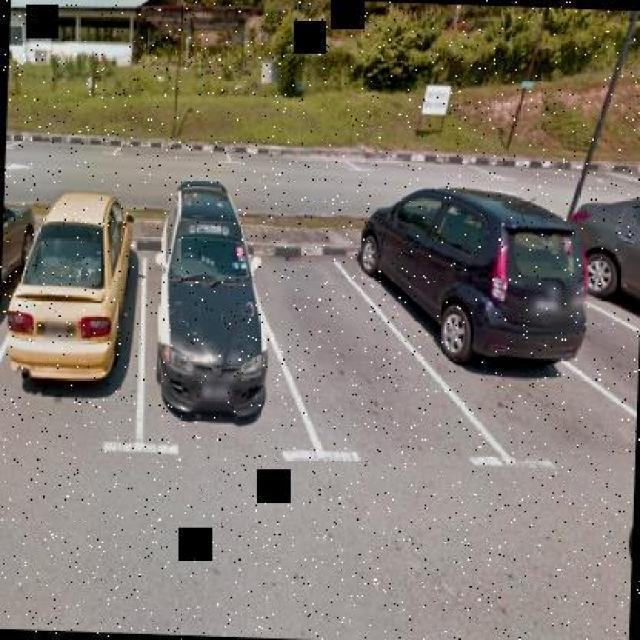space-empty: (256, 258, 430, 461)
space-occupied: (359, 178, 613, 397), (146, 142, 280, 462), (0, 170, 135, 404), (574, 152, 640, 297)
